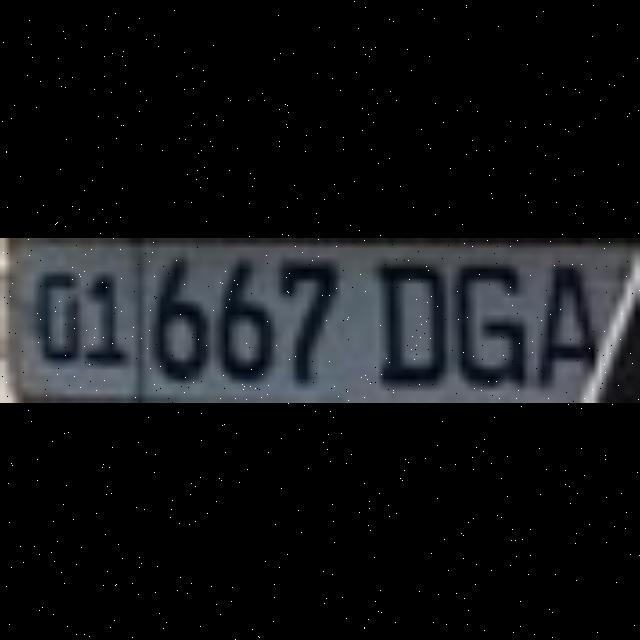0: (28, 266, 72, 352)
1: (72, 266, 122, 360)
6: (144, 252, 202, 374), (208, 252, 266, 374)
7: (274, 252, 338, 374)
A: (525, 252, 597, 381)
D: (367, 252, 439, 381)
G: (446, 252, 518, 381)
